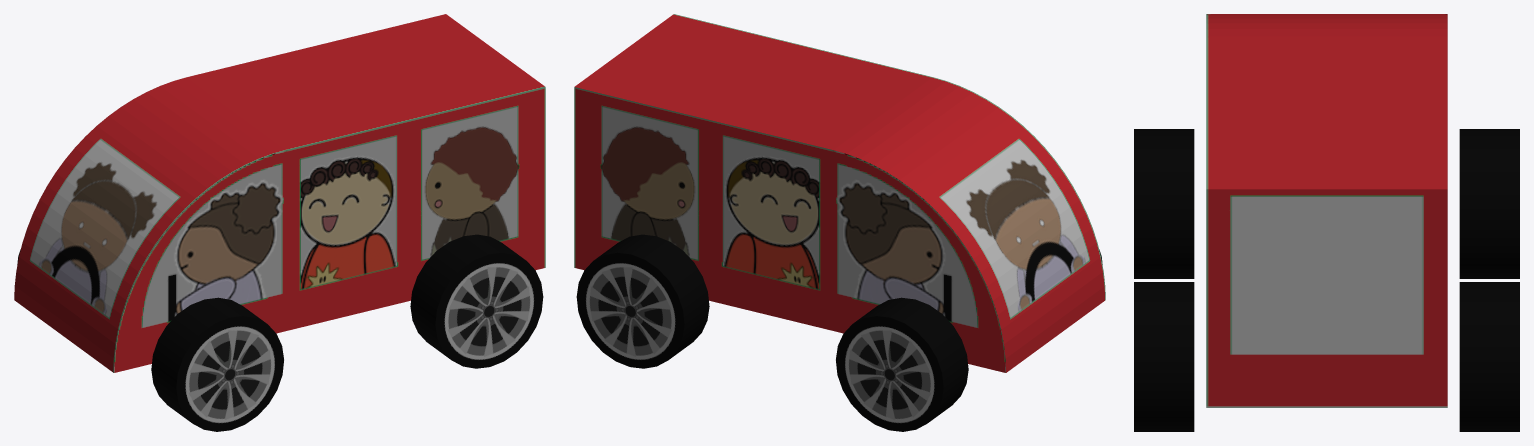
File: car.glb
3 renders of one model, left to right at view 1: azimuth 30°, elevation 25°; view 2: azimuth 150°, elevation 25°; view 3: azimuth 270°, elevation 25°, orthographic. The views are drawn at different scales.
Visible parts, largest first — view 1: car, wheelLF, wheelLB; view 2: car, wheelRF, wheelRB; view 3: car, wheelRB, wheelRF, wheelLB, wheelLF.
Boxes of the visible parts, left/top/right/bottom form: car: left=14, top=14, right=545, bottom=372; wheelLF: left=151, top=297, right=283, bottom=431; wheelLB: left=410, top=234, right=543, bottom=368; car: left=574, top=14, right=1105, bottom=372; wheelRF: left=836, top=297, right=968, bottom=431; wheelRB: left=576, top=234, right=709, bottom=368; car: left=1206, top=14, right=1447, bottom=407; wheelRB: left=1459, top=282, right=1519, bottom=431; wheelRF: left=1459, top=129, right=1519, bottom=278; wheelLB: left=1134, top=282, right=1194, bottom=431; wheelLF: left=1134, top=129, right=1194, bottom=278.
Size of the model in its own units: 0.5 by 0.2625 by 0.32.
Materials: 2 (2 with a texture image).
